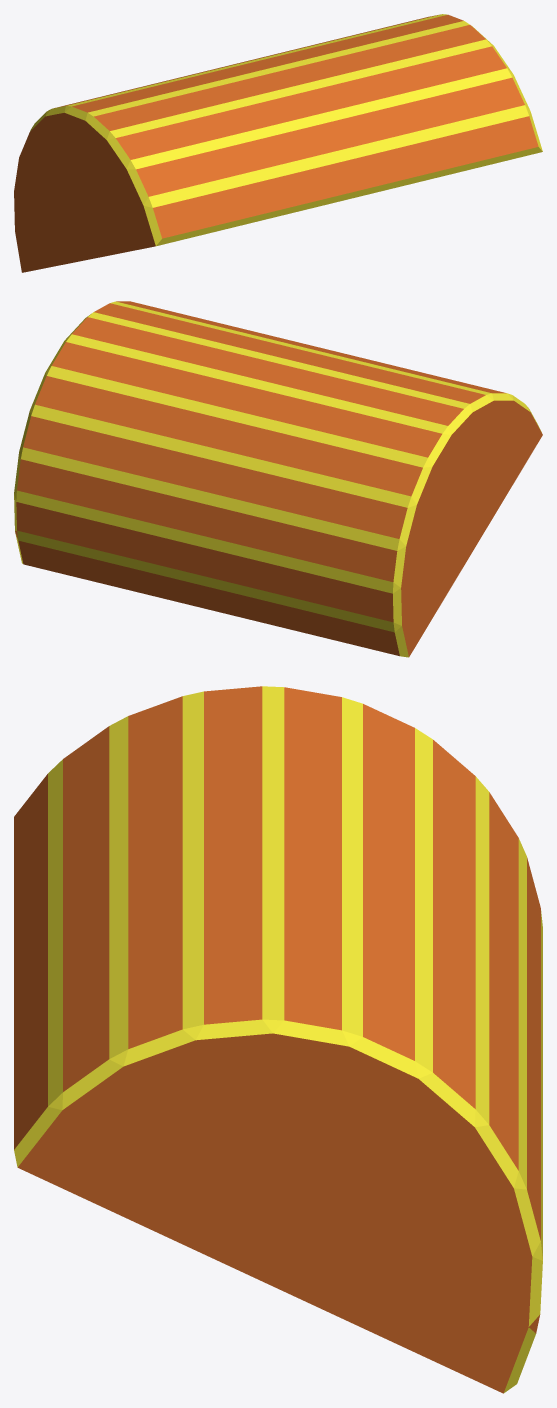
Rendered from ChestLid.fbx.
3 renders of one model, top to bottom at view 1: azimuth 30°, elevation 25°; view 2: azimuth 150°, elevation 25°; view 3: azimuth 270°, elevation 25°, orthographic. The views are drawn at different scales.
Visible parts, largest first — view 1: ChestLid; view 2: ChestLid; view 3: ChestLid.
Boxes of the visible parts, <box> form: ChestLid: <box>14,14,542,272</box>; ChestLid: <box>14,301,542,657</box>; ChestLid: <box>14,686,542,1393</box>.
Bounding box in the file's own units: 106 × 53.3 × 69.17.
